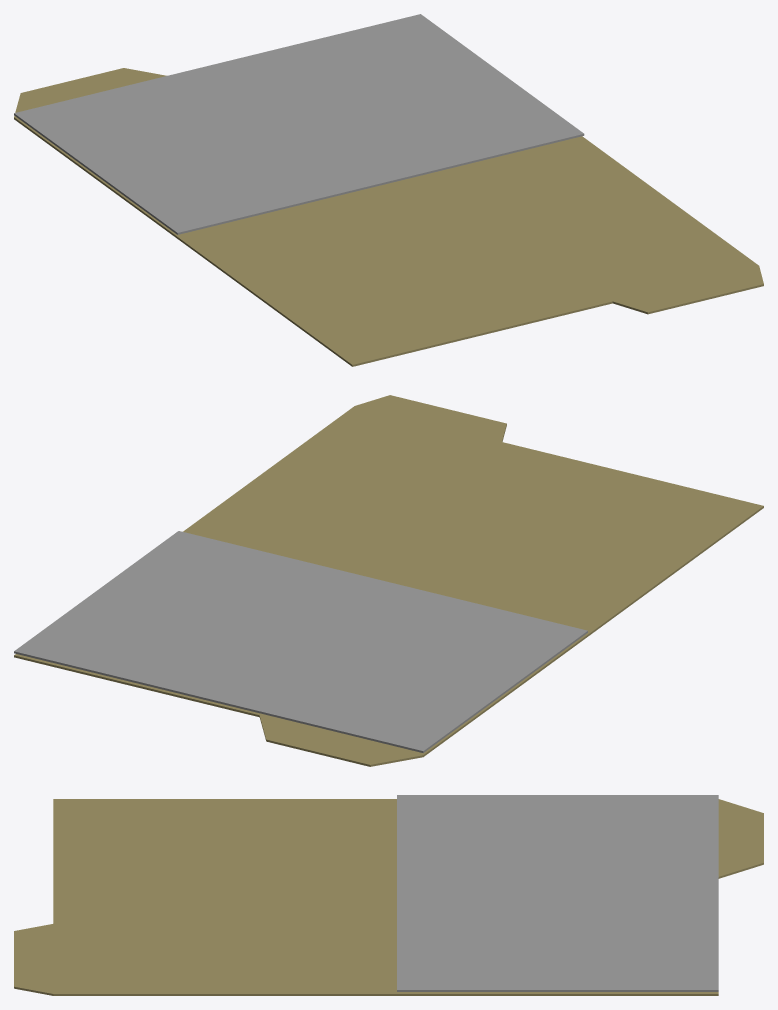
File: folder_final.fbx
The picture shows the model from 3 angles, top to bottom: view 1: azimuth 30°, elevation 25°; view 2: azimuth 150°, elevation 25°; view 3: azimuth 270°, elevation 25°; orthographic projection. The views are drawn at different scales.
Parts seen in each view (by area): view 1: polySurface38; view 2: polySurface38; view 3: polySurface38.
Part boxes in pixels (x1,y1,x2,y2): polySurface38: (14,14,763,366); polySurface38: (14,395,763,766); polySurface38: (14,795,763,995).
Bounding box in the file's own units: 33.9 × 0.4767 × 55.07.
